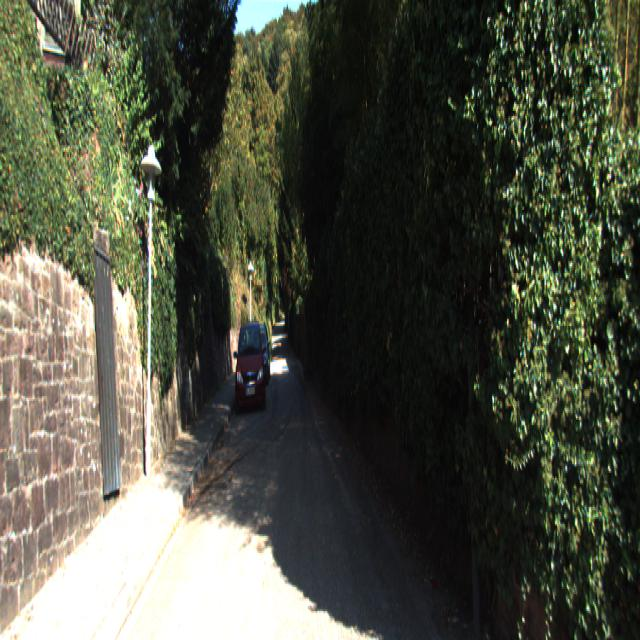Car: (234, 318, 266, 419), (246, 322, 270, 393)
